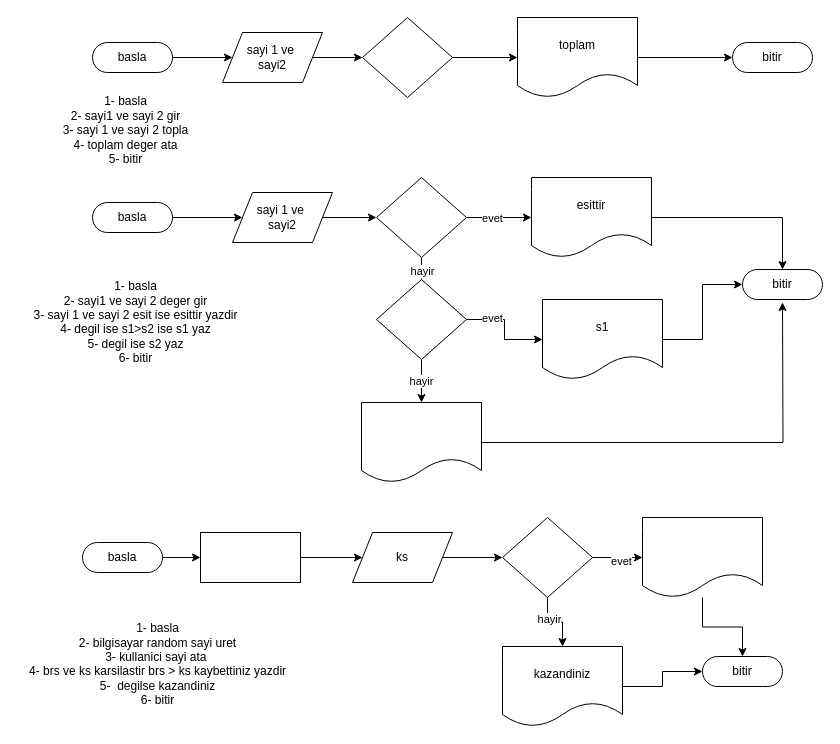
This 840x744 diagram has some shape labels left out. The shapes that lost their labels are listed below. From the top down, each one's centre as x and y in pixels, then its label:
the point at 407,57: sayi1 + sayi 2
the point at 421,217: sayi1 == sayi 2
the point at 421,319: sayi1 > sayi 2
the point at 421,442: s2
the point at 250,557: brs uret
the point at 547,557: brs > ks
the point at 702,557: kaybettiniz
